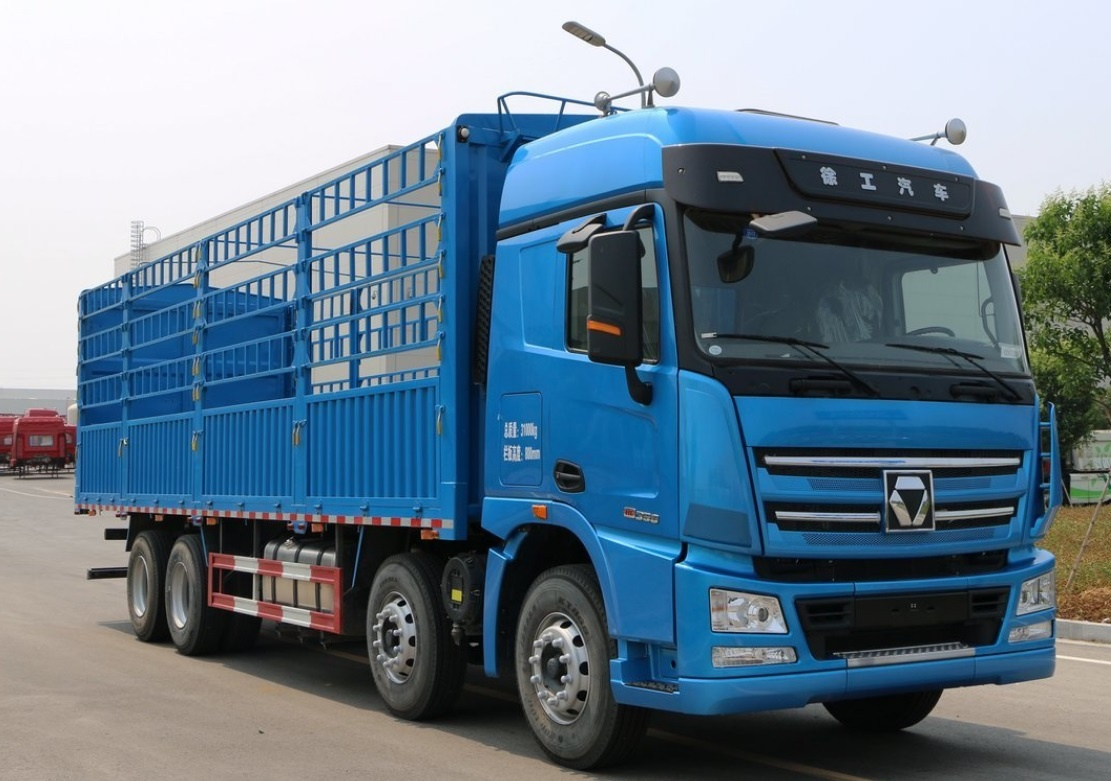heavy truck: (69, 100, 1061, 753)
